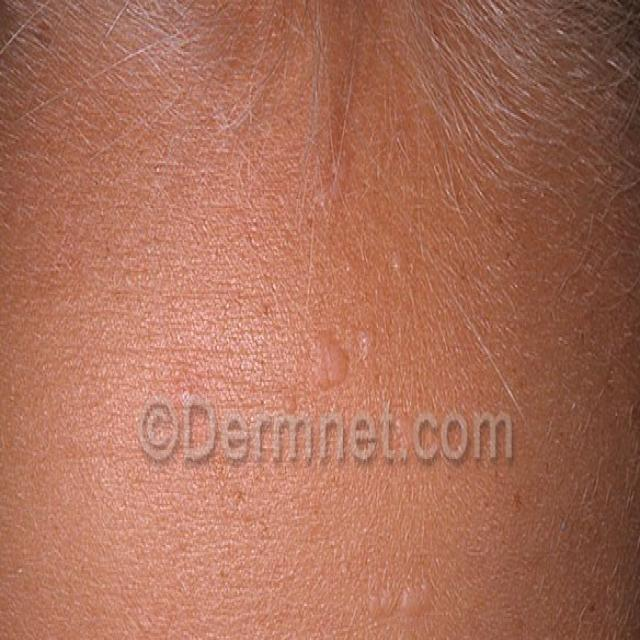Warts: (10, 141, 627, 640)
